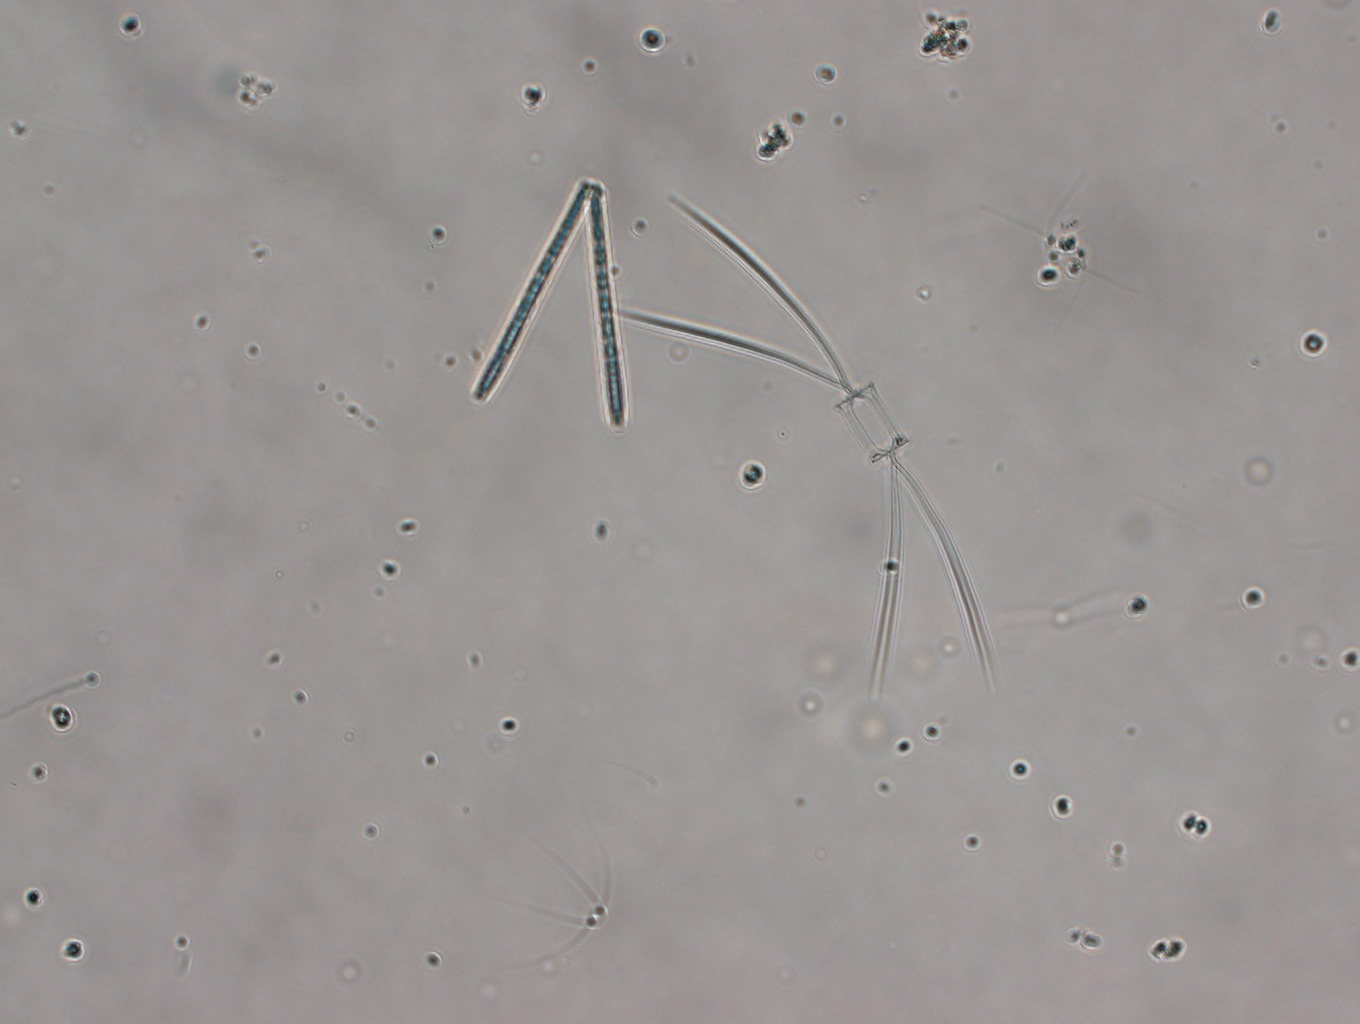chaetoceros: (599, 176, 1003, 698), (967, 167, 1143, 331)
thalassionema nitzschioides: (460, 160, 633, 440)
